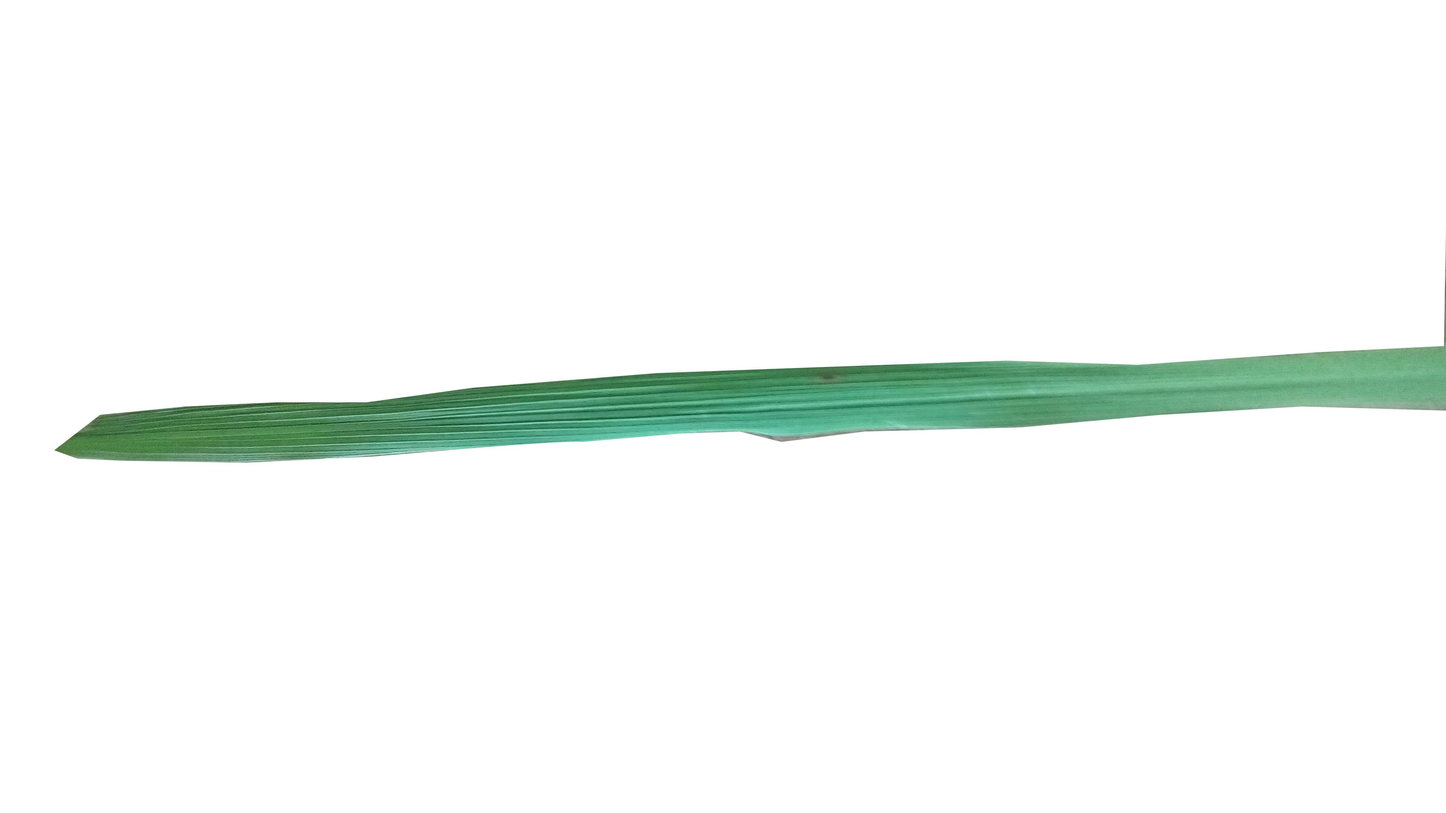Brown spot: (814, 368, 842, 386)
